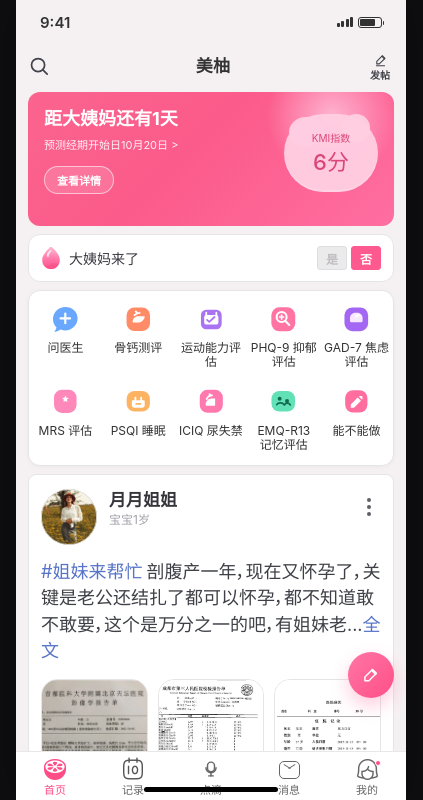
it: scene1 tabbar fidelity › routes the 我的 tab to the placeholder my page
The width and height of the screenshot is (423, 800).
Click the button "我的".
click(367, 776)  # box [328,752,406,799]
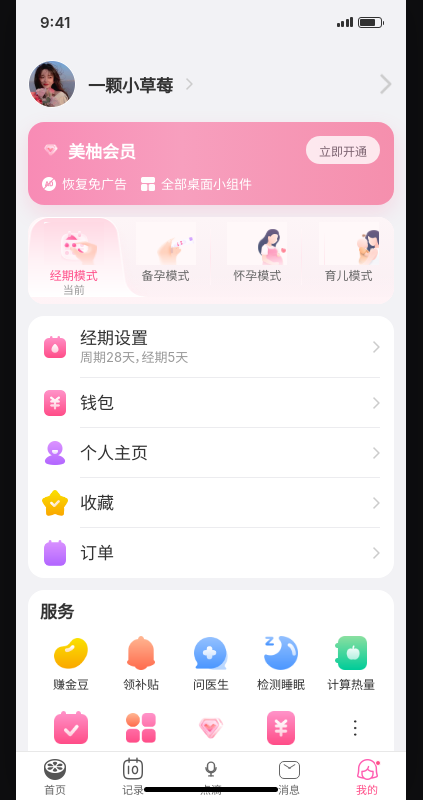
Check: the element with test id "scene1-my-shell" is shown
Check: the header with test id "scene1-my-header" is shown, box [28,56,394,110]
